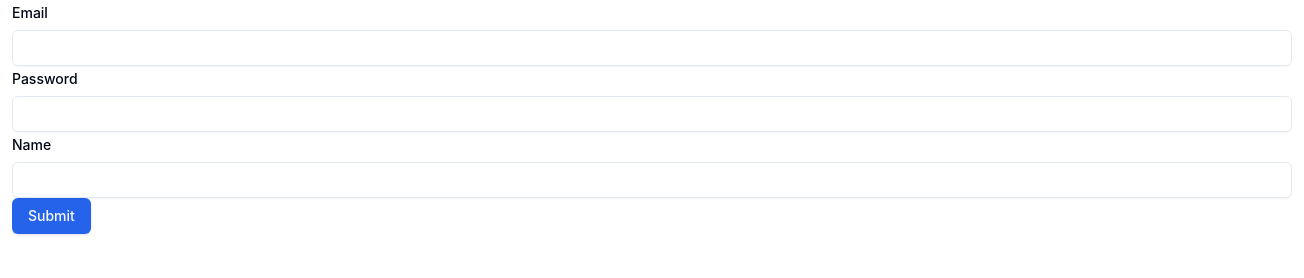
ValidatedInput › should show error on blur when invalid
Click the field with test id "input-email" at {"x": 652, "y": 48}, box [12,30,1292,66]
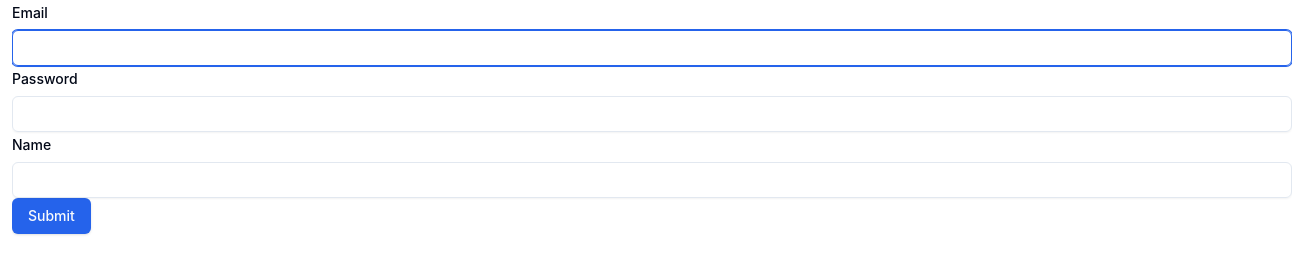
Press Tab
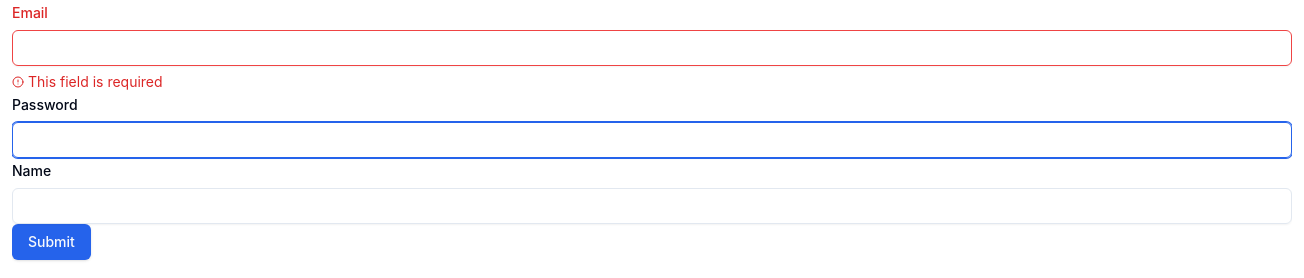
Expected: the message "This field is required" is shown, [12,73,163,90]
